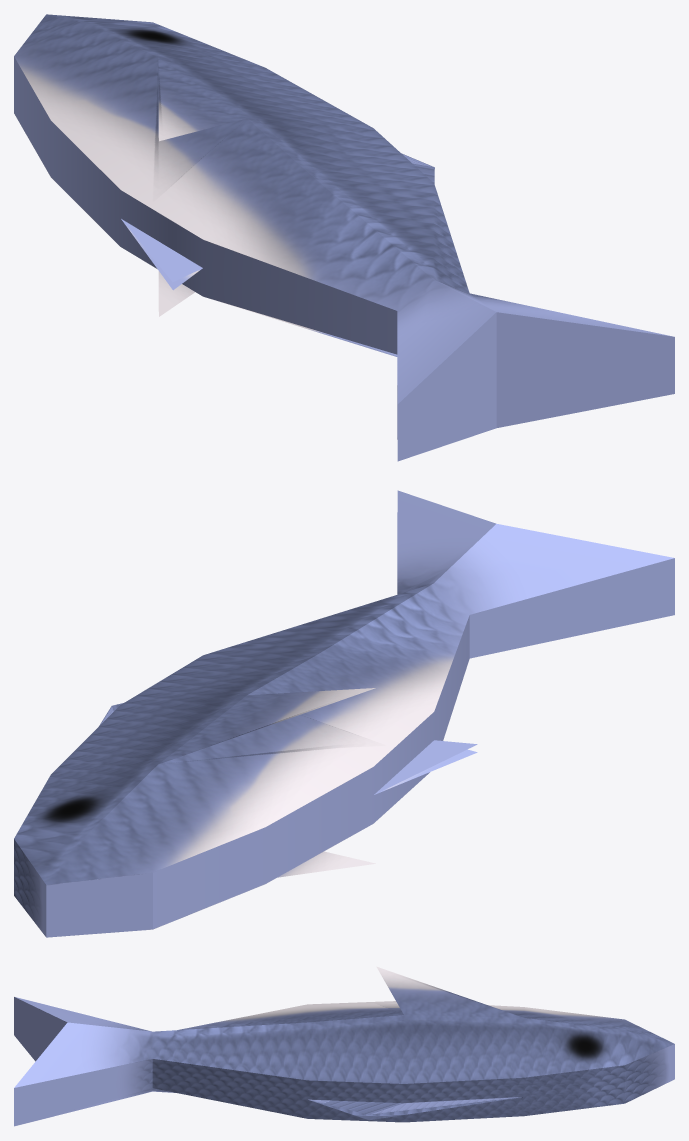
File: Fish.fbx
3 views of the same model, one above another, from view 1: azimuth 30°, elevation 25°; view 2: azimuth 150°, elevation 25°; view 3: azimuth 270°, elevation 25° (orthographic). The views are drawn at different scales.
Parts seen in each view (by area): view 1: Cube; view 2: Cube; view 3: Cube.
Boxes of the visible parts, x1=… form: Cube: x1=14, y1=14, x2=674, y2=461; Cube: x1=14, y1=490, x2=674, y2=937; Cube: x1=14, y1=966, x2=674, y2=1126.
Size of the model in its own units: 115 by 61.5 by 311.
Materials: 1 (1 with a texture image).
